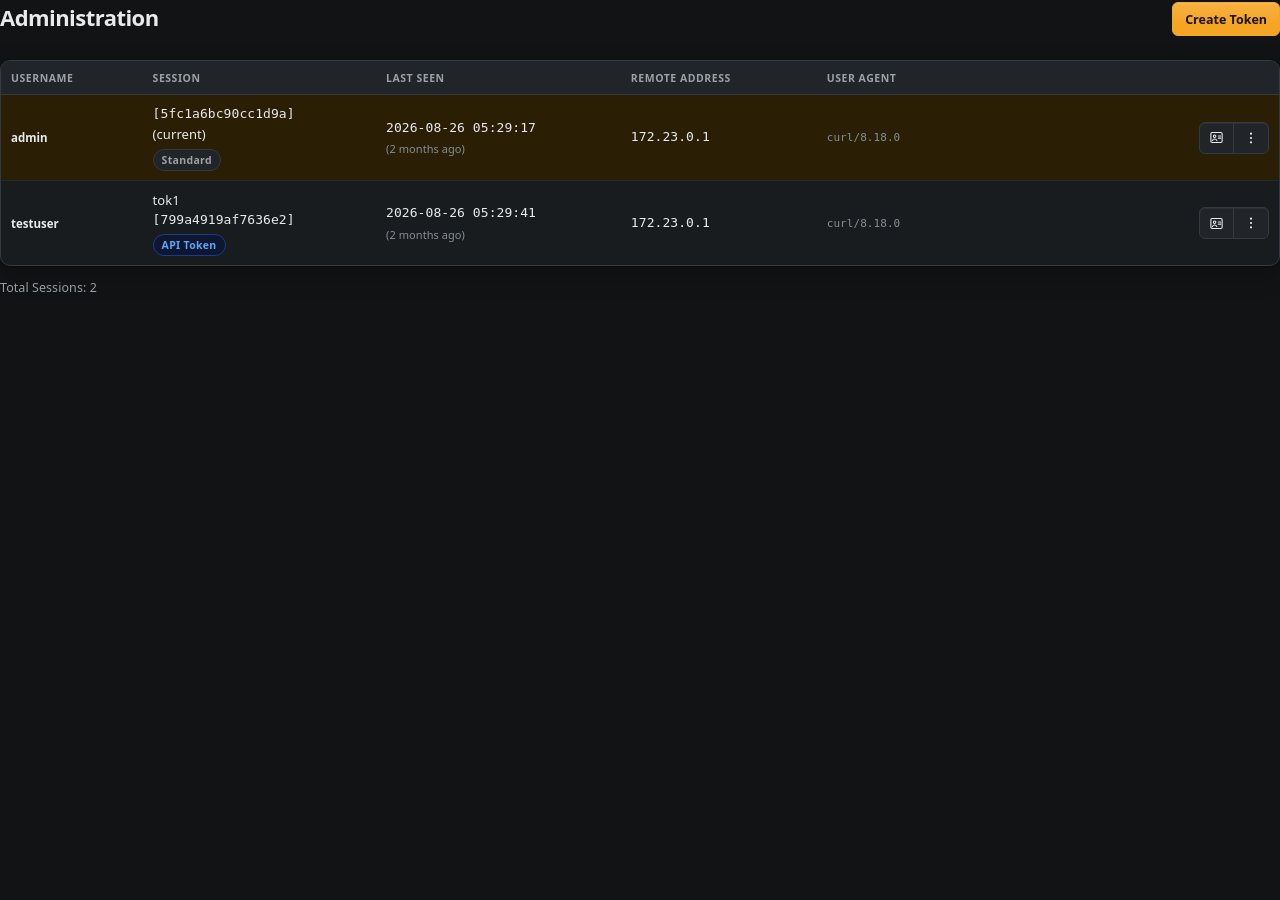
Sessions: deleting a session › it asks for confirmation with the partial token in the text
Click the button named "Actions for ": click(1251, 138) [1234,122,1268,152]
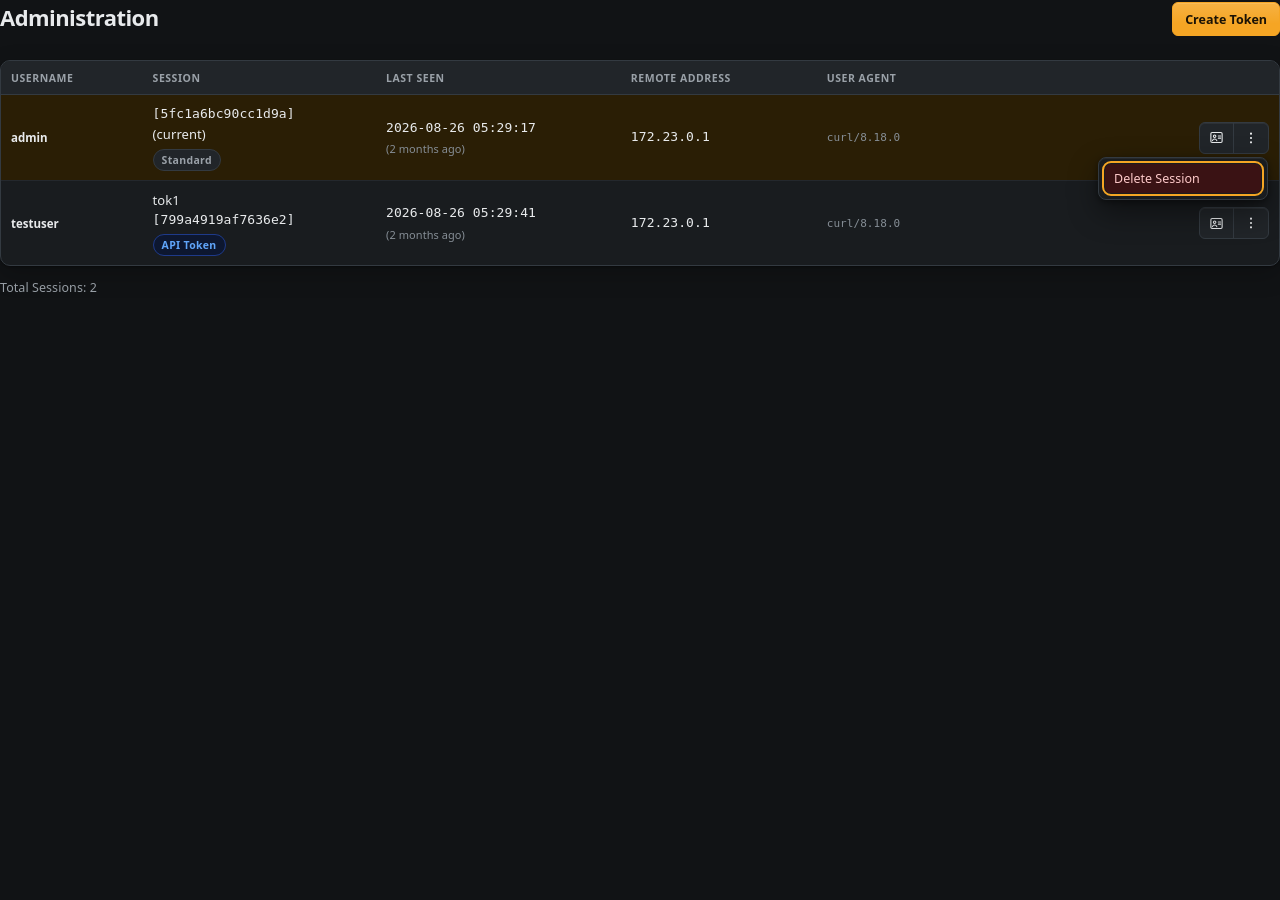
Click the menu item "Delete Session": click(1183, 178) [1105,164,1261,192]
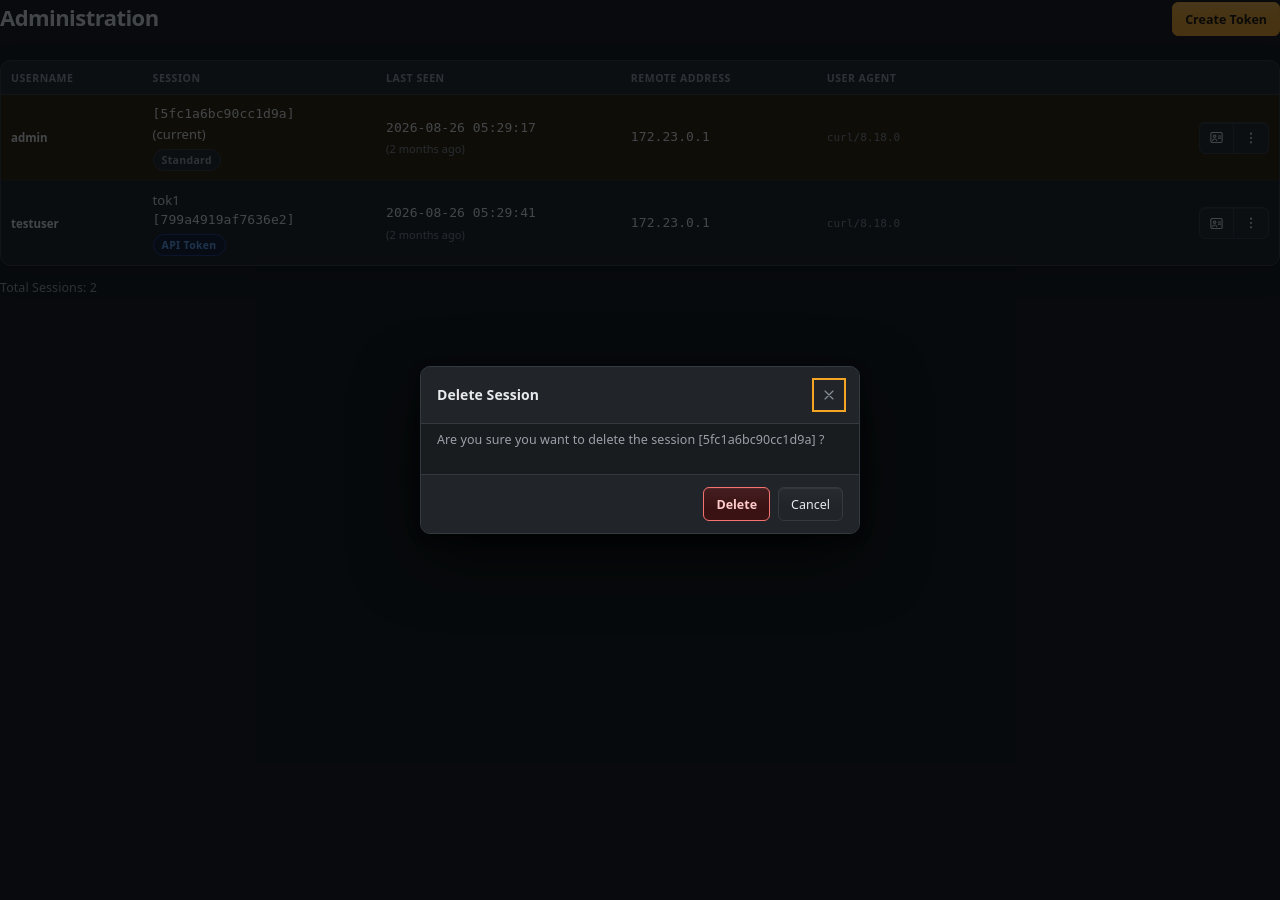
Now the text "Are you sure you want to delete the session [5fc1a6bc90cc1d9a] ?" is shown, box [437,430,843,450]
